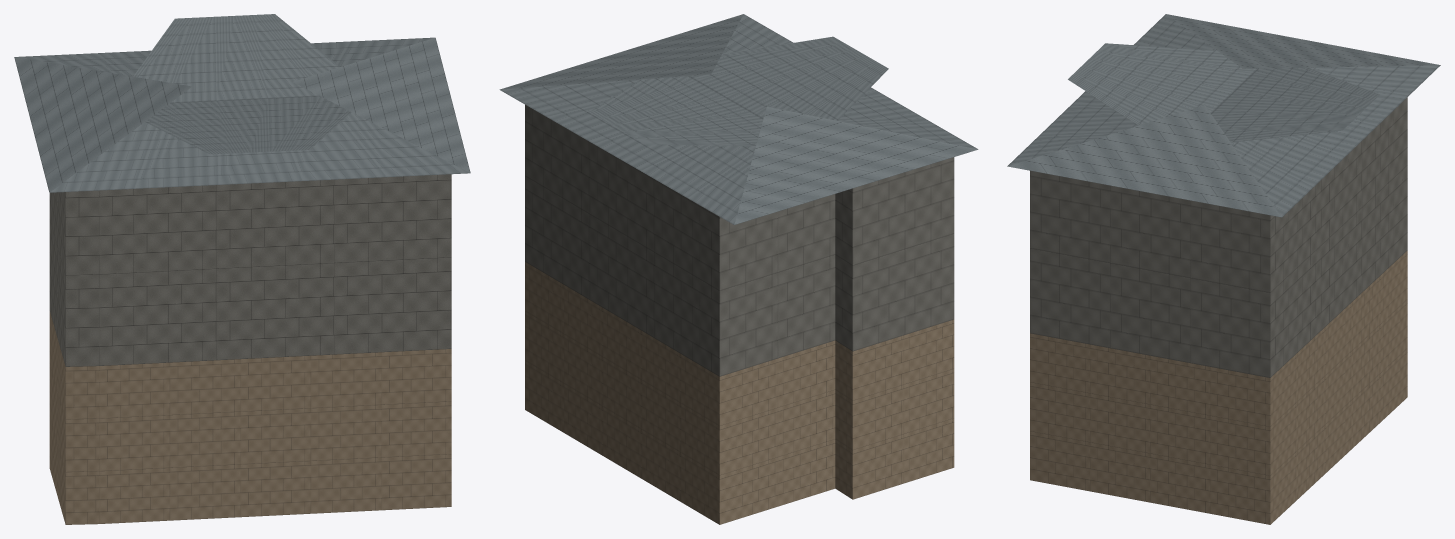
Rendered from bld_c8_9_493.gltf.
3 renders of one model, left to right at view 1: azimuth 30°, elevation 25°; view 2: azimuth 150°, elevation 25°; view 3: azimuth 270°, elevation 25°, orthographic. The views are drawn at different scales.
Visible parts, largest first — view 1: bld_c8_9_493; view 2: bld_c8_9_493; view 3: bld_c8_9_493.
Part boxes in pixels (<box>): bld_c8_9_493: <box>14,14,470,524</box>; bld_c8_9_493: <box>499,14,978,524</box>; bld_c8_9_493: <box>1007,14,1440,524</box>.
Size of the model in its own units: 15.16 by 12 by 13.65.
3 materials, 3 textured.
